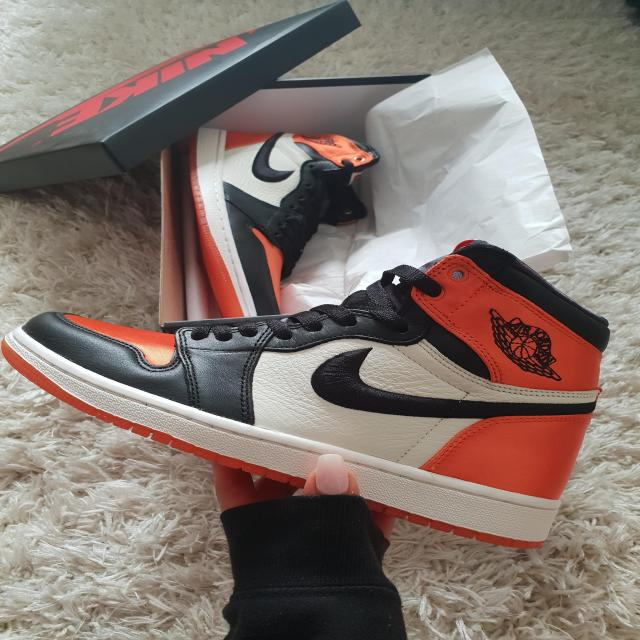shoe: (0, 240, 613, 553), (182, 121, 382, 322)
